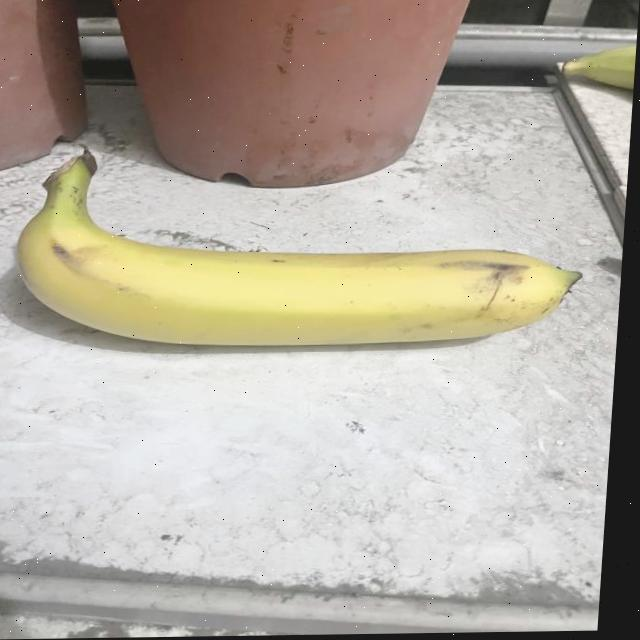banana: (4, 136, 587, 355)
